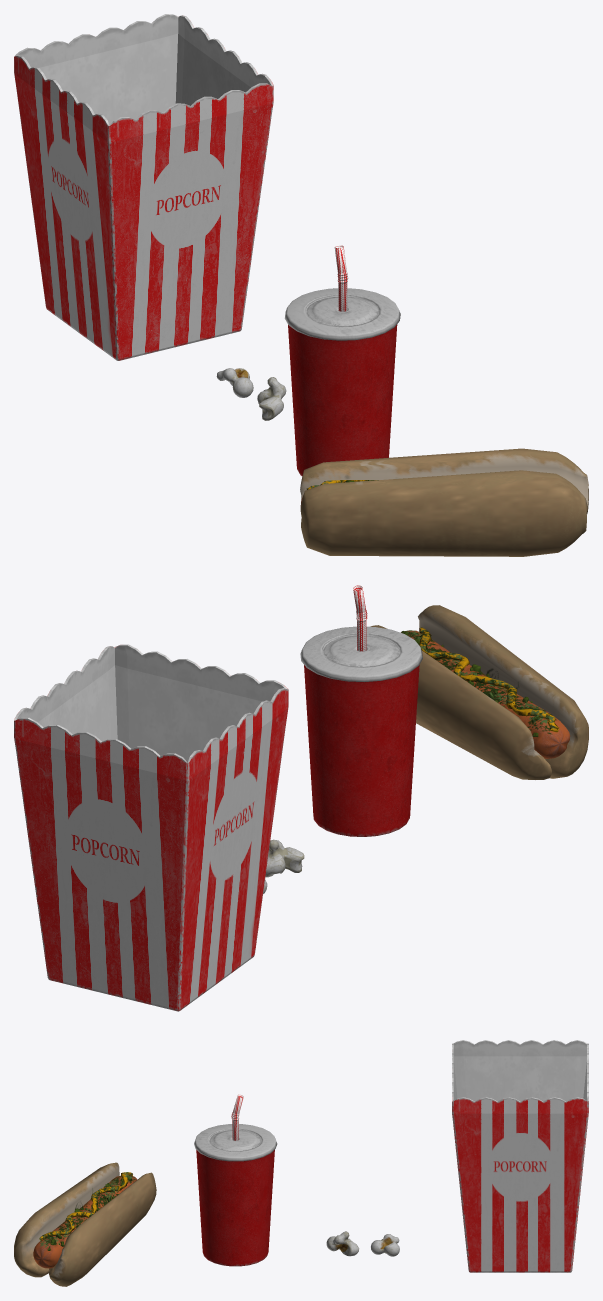
The picture shows the model from 3 angles, top to bottom: view 1: azimuth 30°, elevation 25°; view 2: azimuth 150°, elevation 25°; view 3: azimuth 270°, elevation 25°; orthographic projection. The views are drawn at different scales.
Visible parts, largest first — view 1: Cube_3, Cylinder.001_4, Cylinder_2, Mball.001_1, Mball.004_0; view 2: Cube_3, Cylinder_2, Cylinder.001_4, Mball.001_1; view 3: Cube_3, Cylinder_2, Cylinder.001_4, Mball.001_1, Mball.004_0.
Part boxes in pixels (<box>): Cube_3: <box>14,14,273,360</box>; Cylinder.001_4: <box>300,448,588,556</box>; Cylinder_2: <box>284,245,400,475</box>; Mball.001_1: <box>257,377,286,420</box>; Mball.004_0: <box>216,368,253,397</box>; Cube_3: <box>14,644,288,1011</box>; Cylinder_2: <box>300,585,422,836</box>; Cylinder.001_4: <box>370,605,588,779</box>; Mball.001_1: <box>265,839,304,877</box>; Cube_3: <box>452,1040,588,1272</box>; Cylinder_2: <box>194,1094,277,1266</box>; Cylinder.001_4: <box>14,1162,156,1286</box>; Mball.001_1: <box>326,1231,359,1256</box>; Mball.004_0: <box>371,1234,399,1256</box>.
Size of the model in its own units: 0.3629 by 0.3579 by 1.
Materials: 5 (5 with a texture image).
